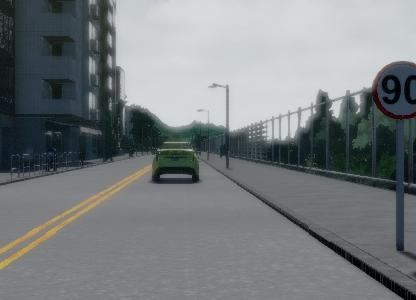Speed_90: (371, 55, 416, 124)
